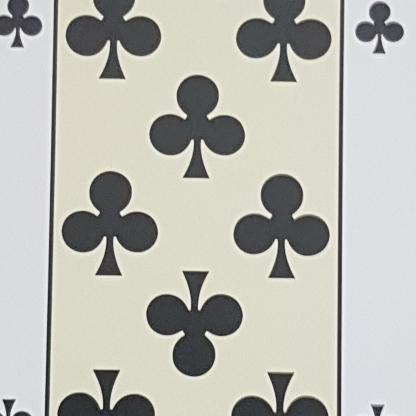8c: (350, 0, 415, 84), (0, 0, 58, 74)
